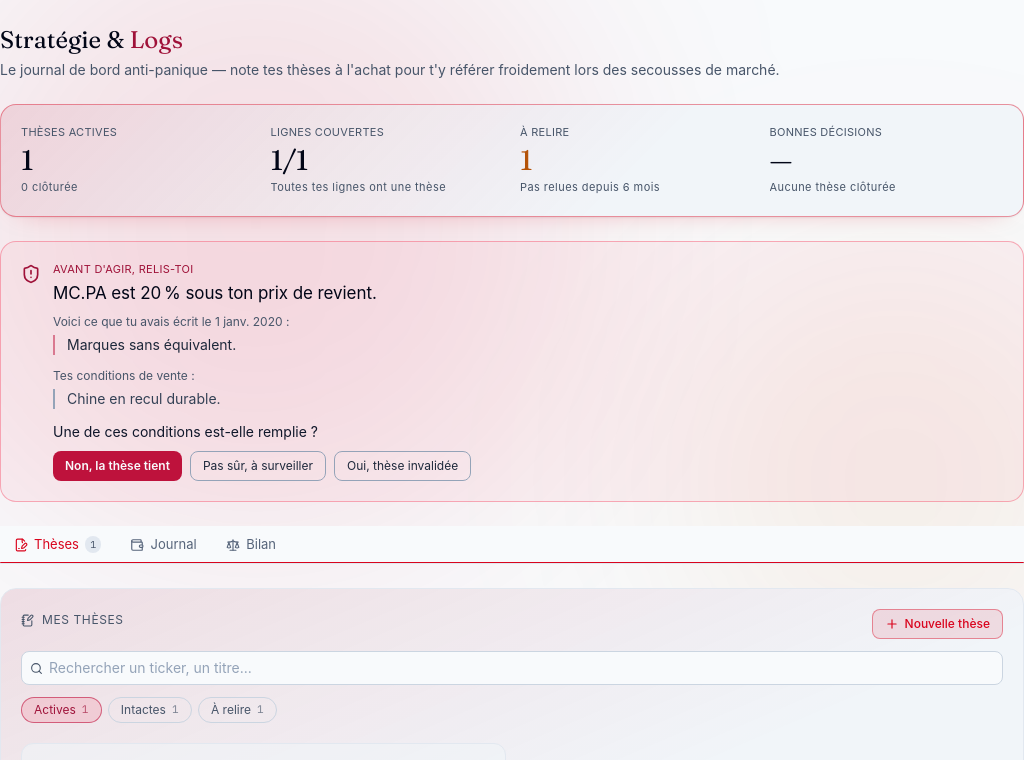
Test case: Stratégie & Logs › fait remonter la thèse d'une ligne en forte baisse, et consigne la relecture
The image size is (1024, 760).
Check: the heading "MC.PA est 20 % sous ton prix de revient." is shown, box [53,283,377,303]
Check: the text "Chine en recul durable." is shown, box [53,389,1003,409]
Click the button "Non, la thèse tient": (117, 466) [53,451,182,481]
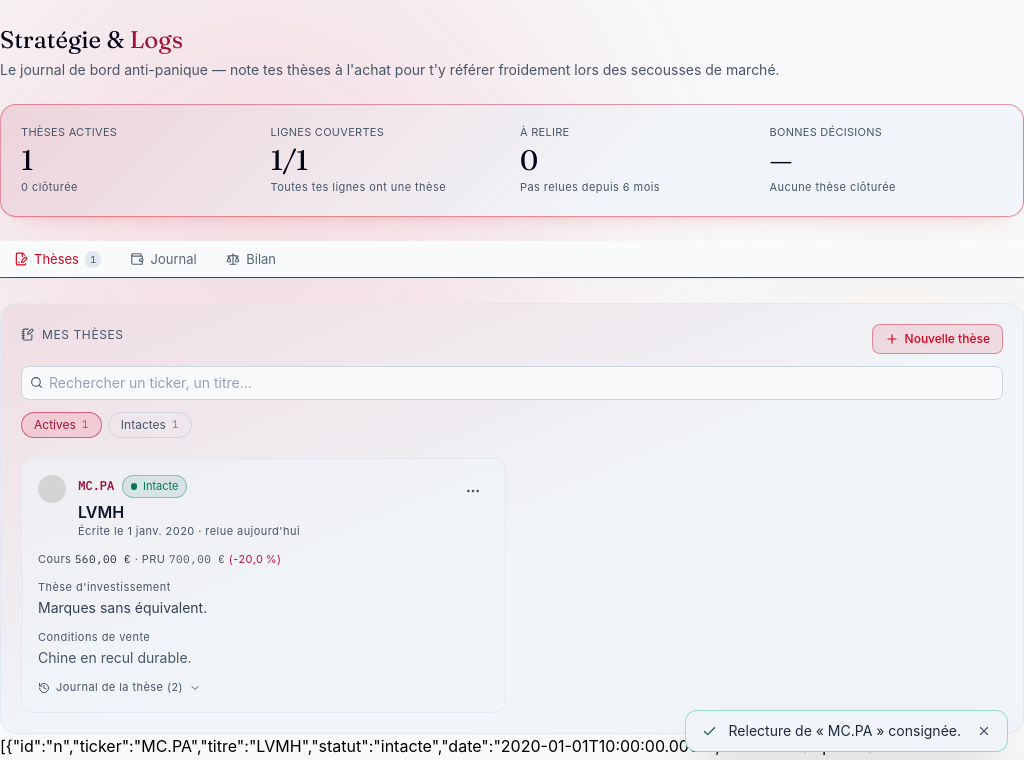
Check: the heading "MC.PA est 20" is gone
